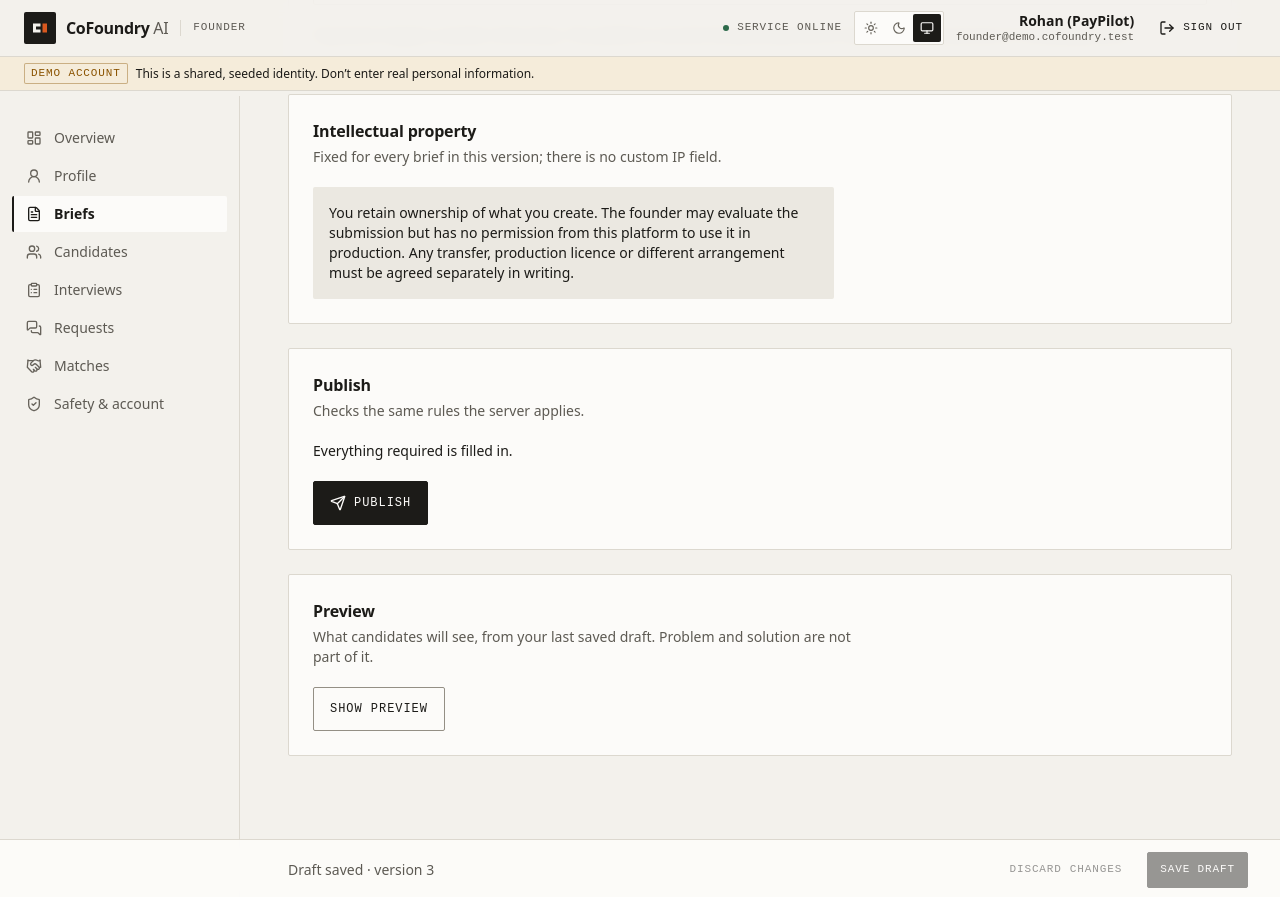
Scenario: draft editor › publishes a complete draft after confirmation and shows the fixed terms
(page scrolled)
Expected: the text "Everything required is filled in." is shown, [313, 441, 513, 460]
Click the button "Publish" at (371, 503), box [313, 481, 428, 525]
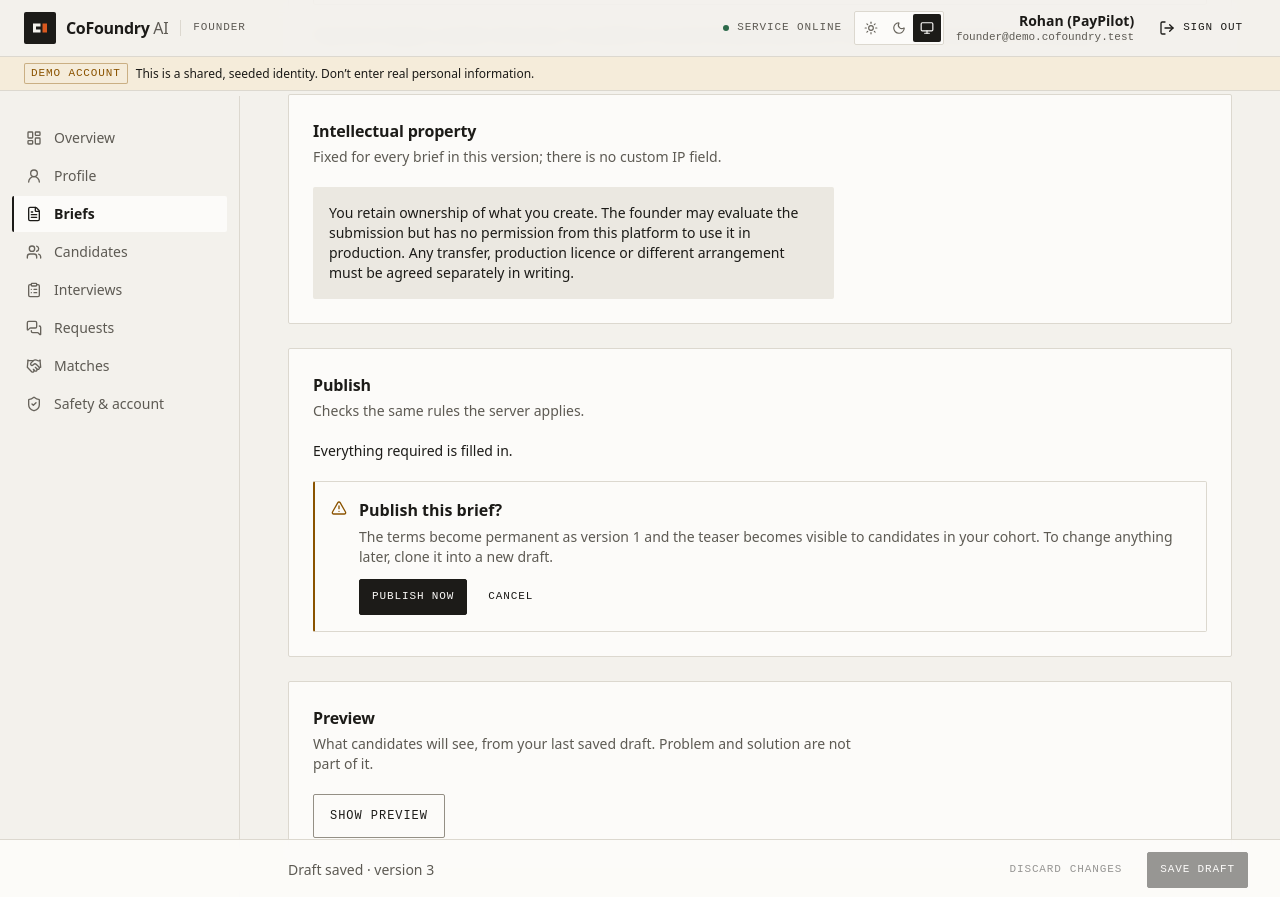
Click the button "Publish now" at (413, 597), box [359, 579, 467, 615]
(page scrolled)
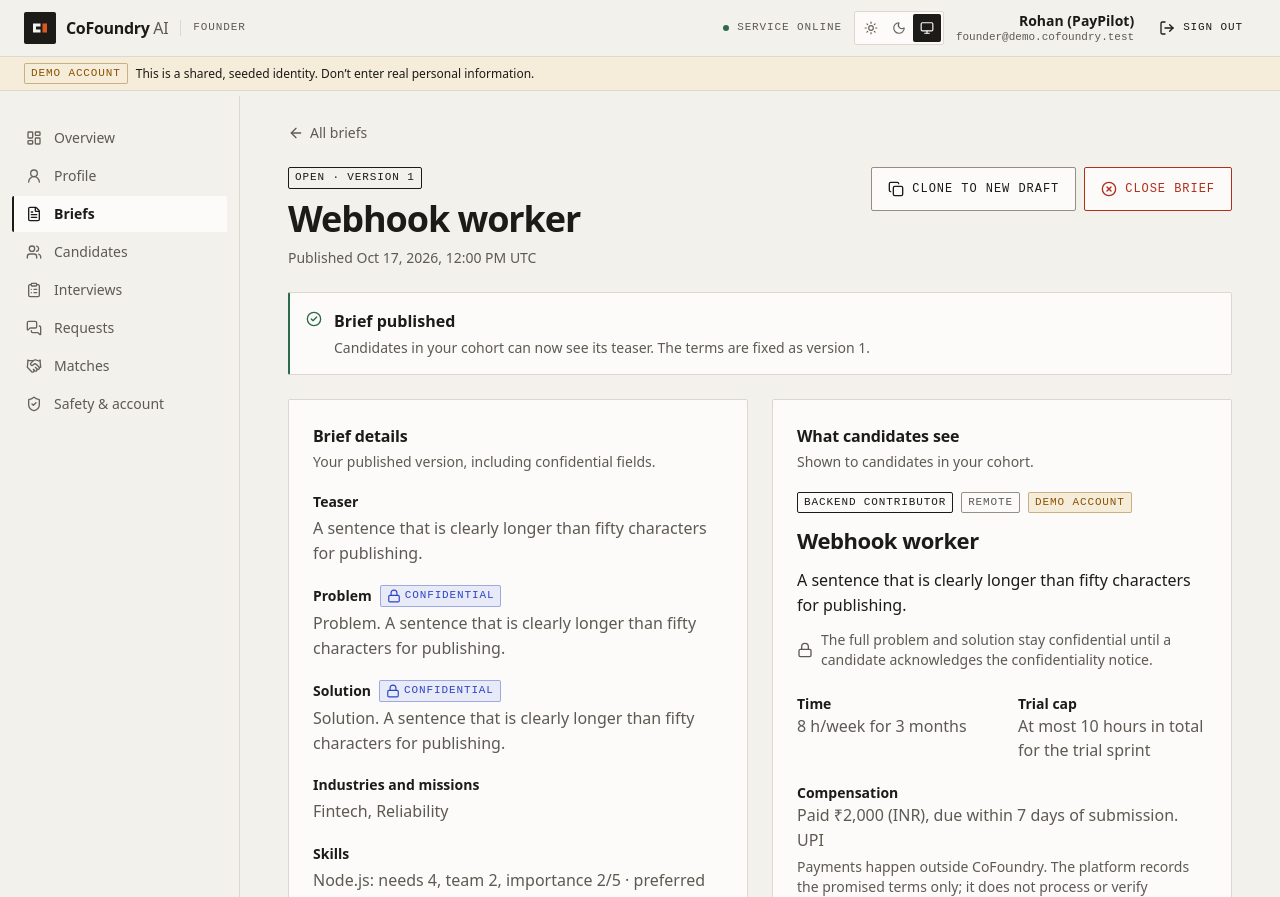
Result: the text "Brief published" is shown at [334, 310, 455, 332]
Result: the button "Close brief" is shown at [1084, 167, 1232, 211]
Result: the button "Save draft" is gone
